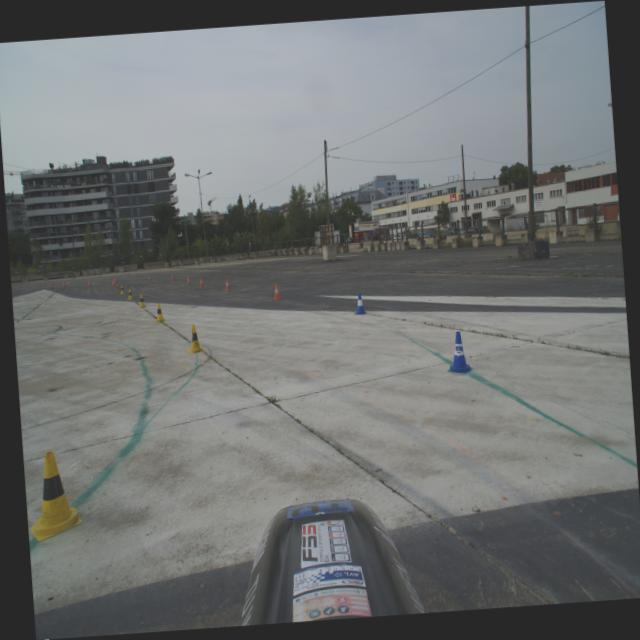blue_cone: (444, 330, 472, 374), (352, 292, 368, 314)
orange_cone: (272, 282, 282, 300), (224, 278, 231, 290), (198, 276, 204, 287), (114, 280, 120, 290), (186, 274, 191, 284), (110, 278, 116, 286), (170, 273, 175, 281), (49, 282, 53, 289), (87, 280, 91, 286), (62, 280, 66, 286), (148, 274, 151, 281), (113, 276, 116, 282)
yellow_cone: (25, 449, 83, 542), (186, 323, 204, 354), (154, 302, 166, 322), (138, 293, 146, 308), (125, 288, 134, 299), (119, 284, 125, 294)
